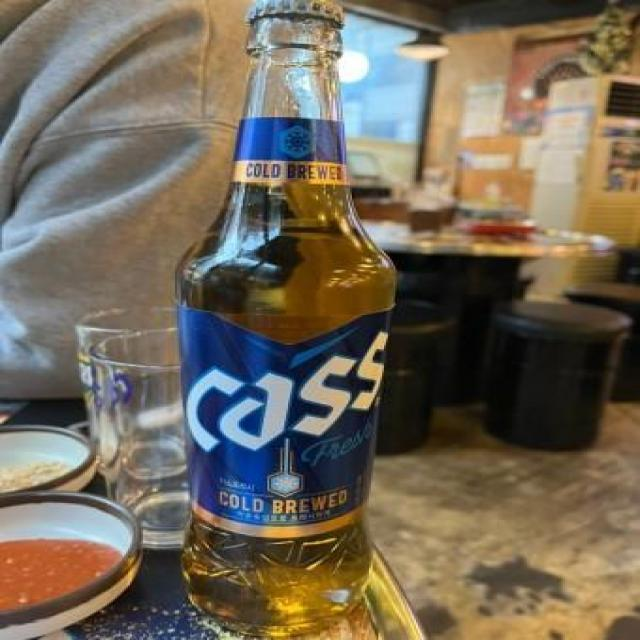beer-bottle: (186, 0, 376, 634)
